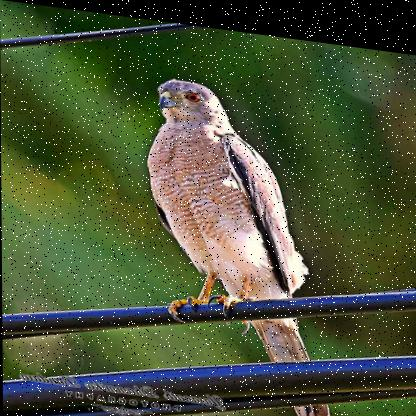Burung: (148, 70, 331, 415)
